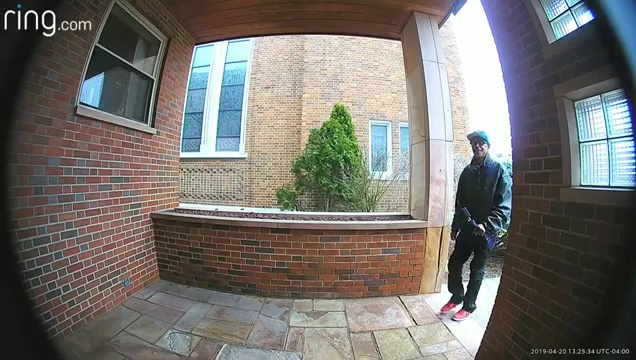face: (472, 138, 487, 156)
